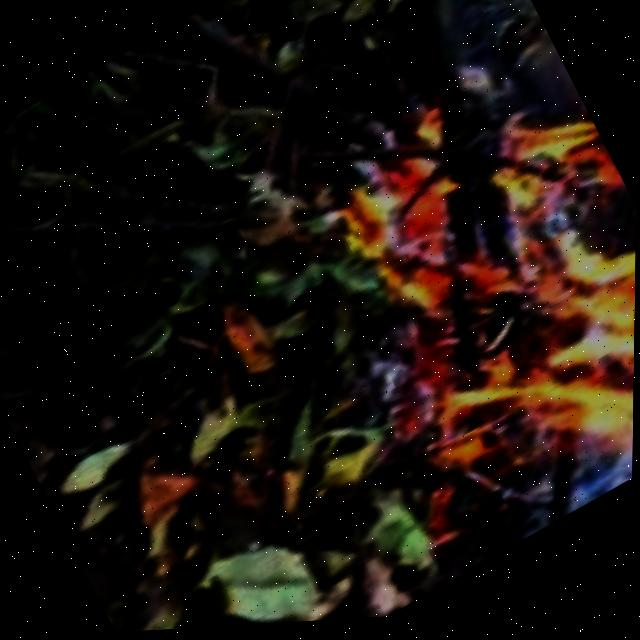Fire: (326, 75, 639, 564)
